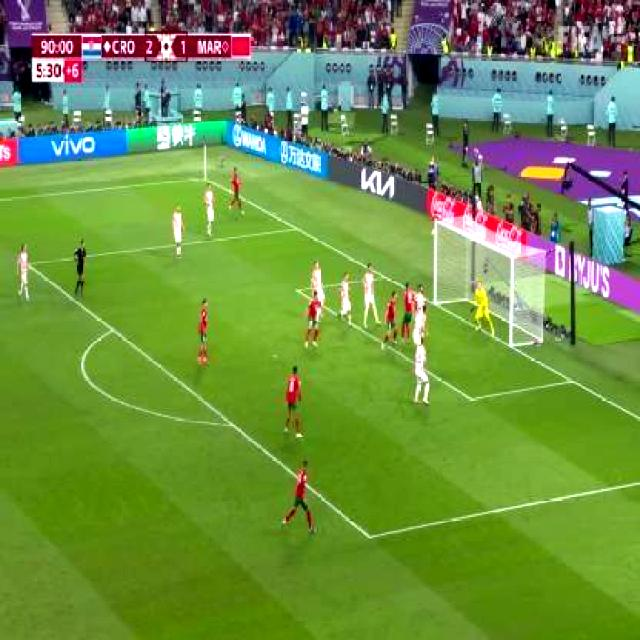bigarea_bottom_inner: (364, 529, 374, 545)
bigarea_top_outter: (290, 220, 302, 237)
bottom_arc_area_intersection: (224, 415, 238, 434)
corner: (197, 176, 214, 184)
smallarea_bottom_inner: (464, 389, 478, 411)
smallarea_bottom_outter: (566, 374, 577, 388)
smallarea_top_inner: (294, 285, 303, 297)
smallarea_top_outter: (380, 270, 389, 284)
top_arc_area_intersection: (108, 323, 120, 337)
